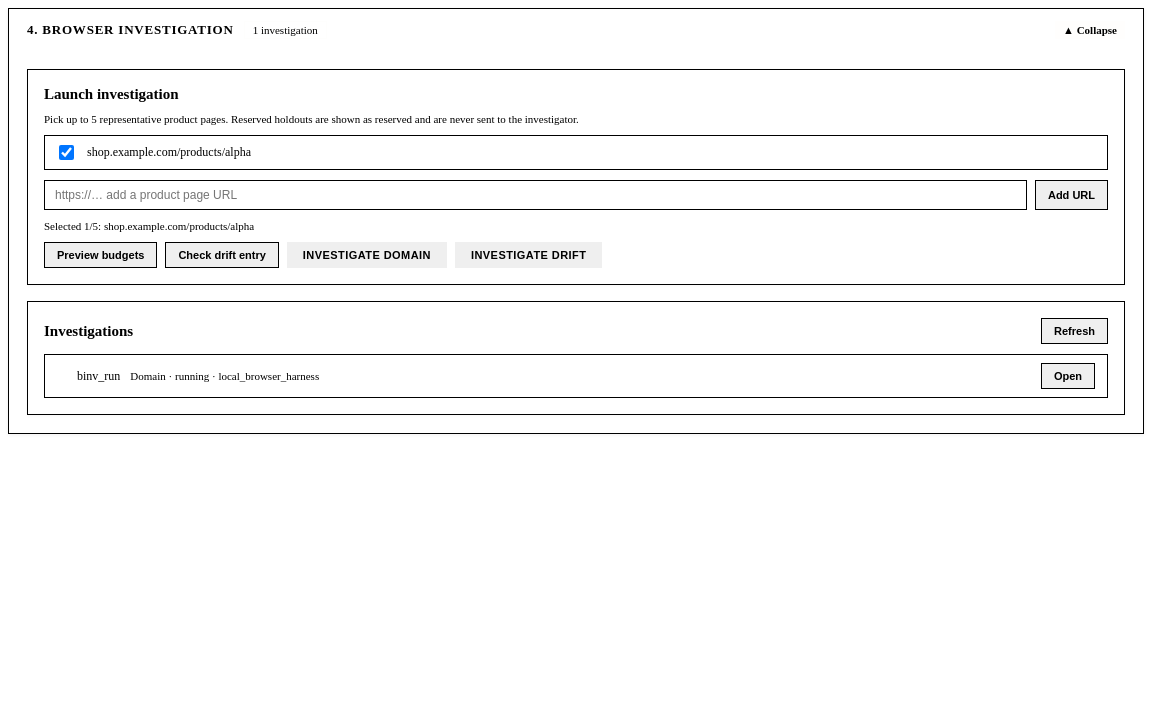
Test: #245 live watch and cancel for running investigations › cancel while running reflects cancelled and hides validate/apply
The width and height of the screenshot is (1152, 704).
What coordinates should you click on to do the following:
click the button "Open"
I would click on:
 (1068, 376)
Its box is [1041,363,1095,389].
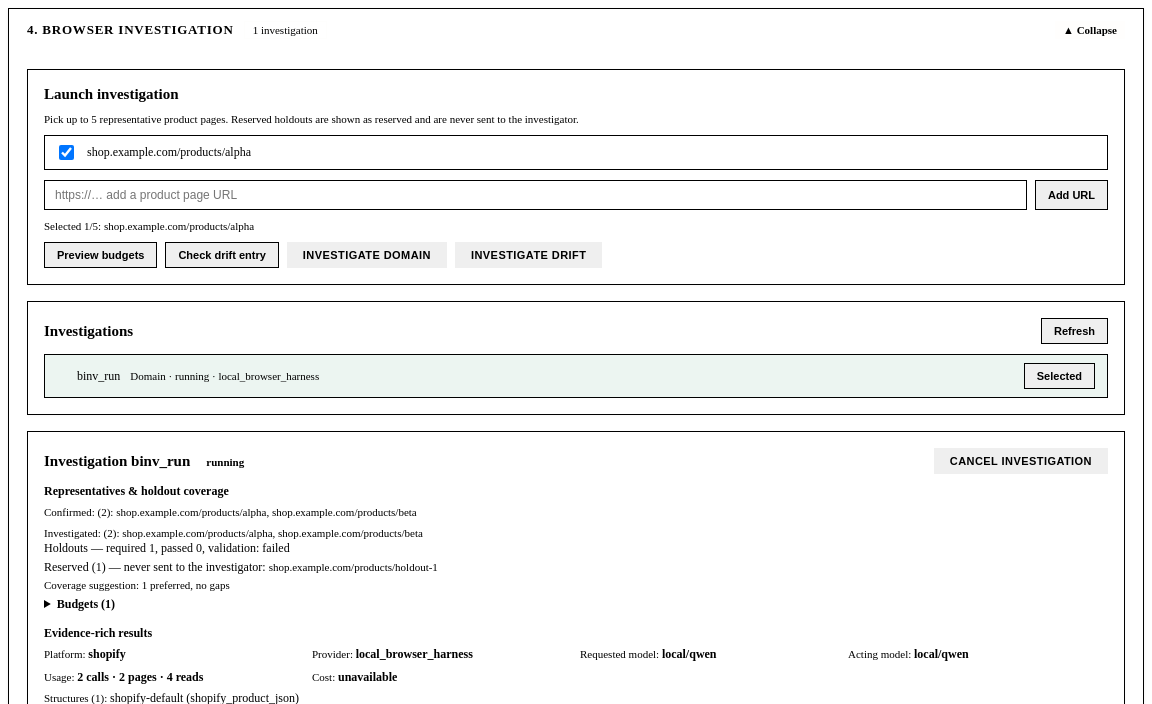
Now the text "Cancel investigation" is shown
What coordinates should you click on to do the following:
click the button "Cancel investigation"
I would click on:
 (1021, 461)
Its box is [934,448,1108,474].
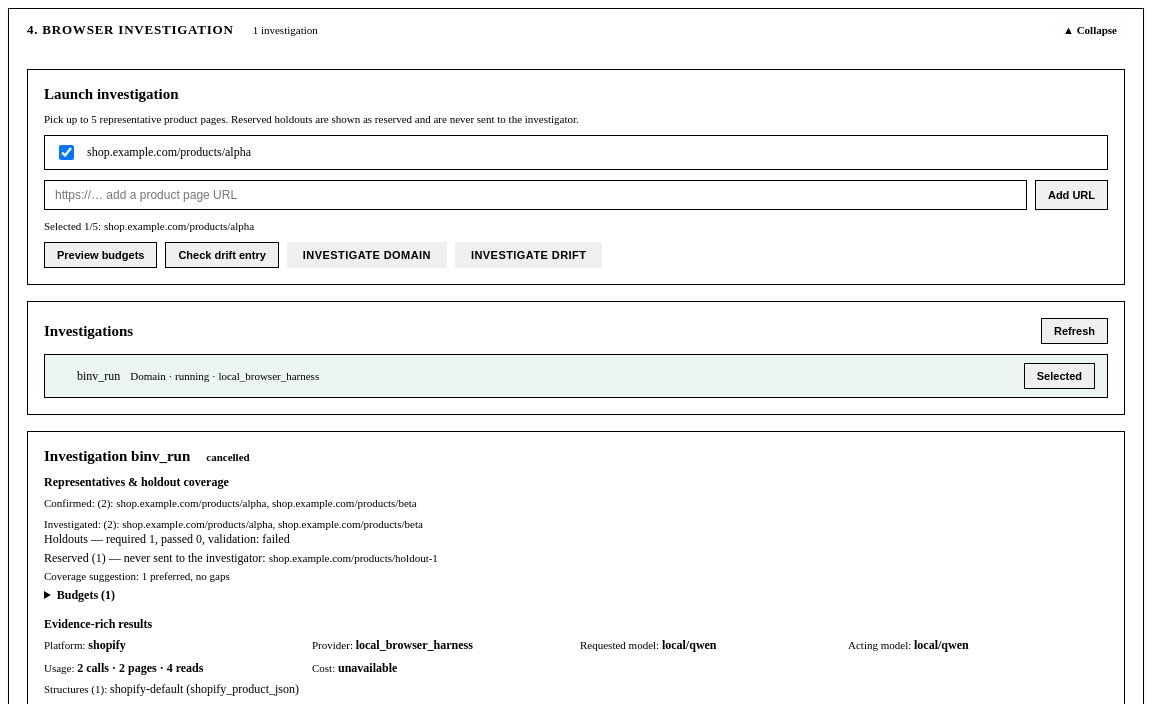
Now the text "cancelled" is shown, box [206,451,250,463]
Now the text "Cancel investigation" is gone
